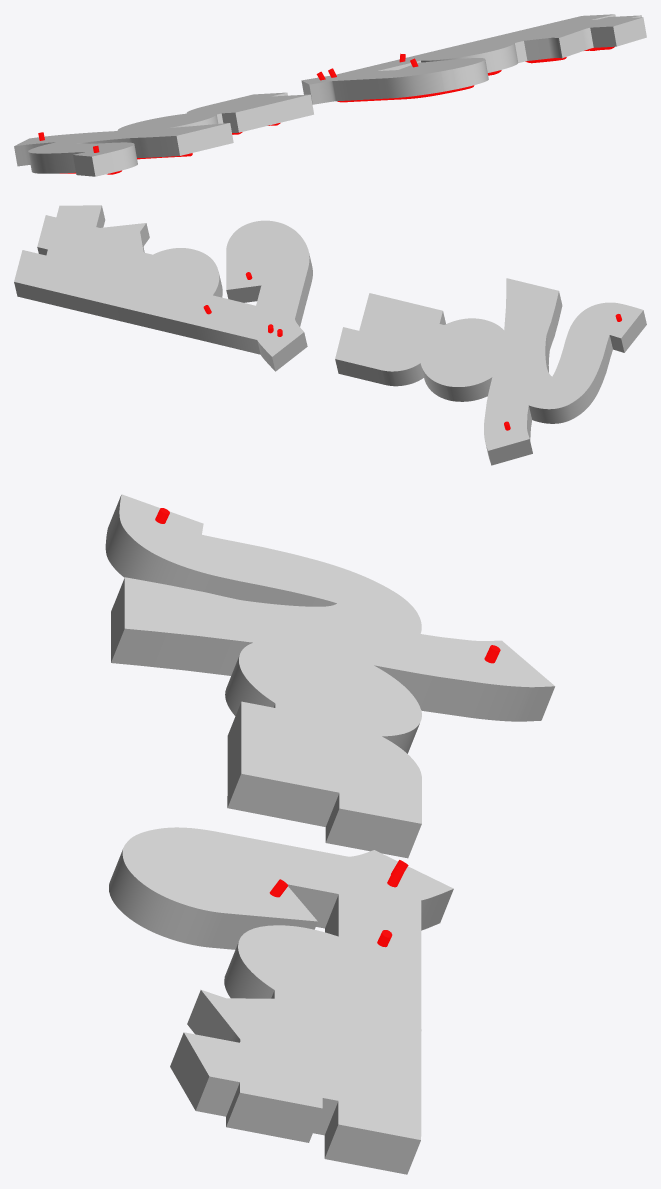
File: you_lost.FBX
The picture shows the model from 3 angles, top to bottom: view 1: azimuth 30°, elevation 25°; view 2: azimuth 150°, elevation 25°; view 3: azimuth 270°, elevation 25°; orthographic projection. The views are drawn at different scales.
Parts seen in each view (by area): view 1: Shape1; view 2: Shape1; view 3: Shape1.
Part boxes in pixels (left/top/right/bottom): Shape1: left=14, top=14, right=646, bottom=176; Shape1: left=14, top=205, right=646, bottom=465; Shape1: left=105, top=494, right=555, bottom=1174.
Size of the model in its own units: 7.63 by 1.16 by 2.61.
